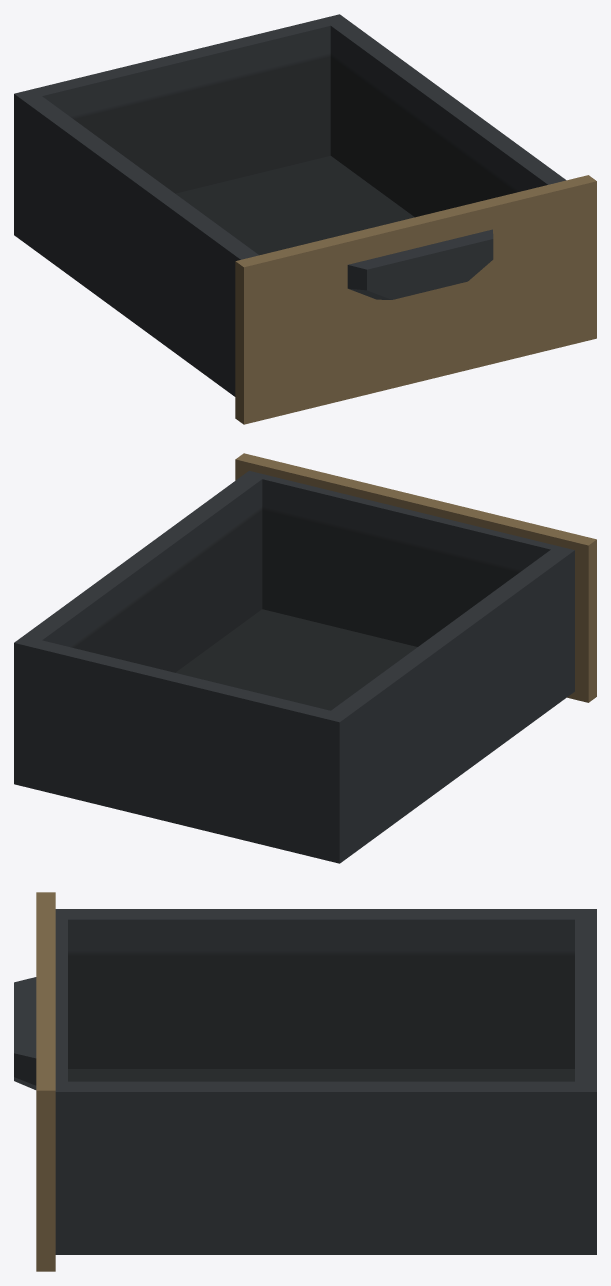
File: SM_Prop_Desk_Drawer_01.glb
3 views of the same model, one above another, from view 1: azimuth 30°, elevation 25°; view 2: azimuth 150°, elevation 25°; view 3: azimuth 270°, elevation 25° (orthographic). The views are drawn at different scales.
Visible parts, largest first — view 1: SM_Prop_Desk_Drawer_01; view 2: SM_Prop_Desk_Drawer_01; view 3: SM_Prop_Desk_Drawer_01.
Boxes of the visible parts, bbox=[...] form: SM_Prop_Desk_Drawer_01: bbox=[14, 14, 596, 424]; SM_Prop_Desk_Drawer_01: bbox=[14, 453, 596, 863]; SM_Prop_Desk_Drawer_01: bbox=[14, 892, 596, 1271].
Bounding box in the file's own units: 0.7394 × 0.3149 × 0.9185.
Materials: 1 (1 with a texture image).
